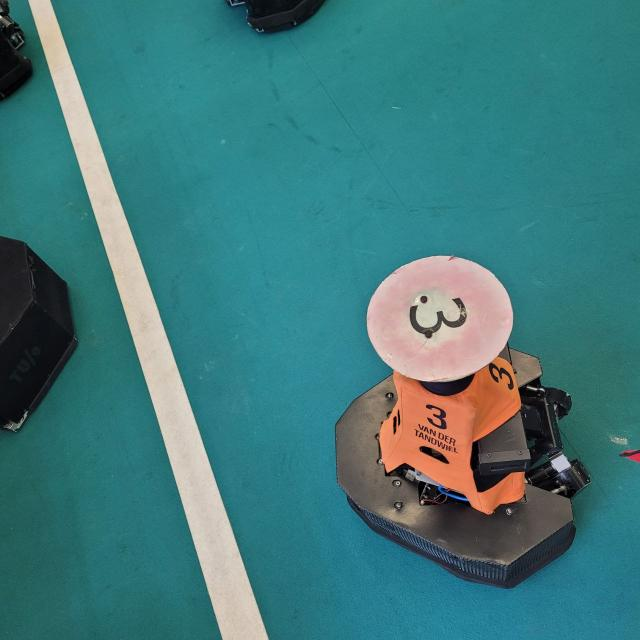robot: (313, 225, 605, 591)
